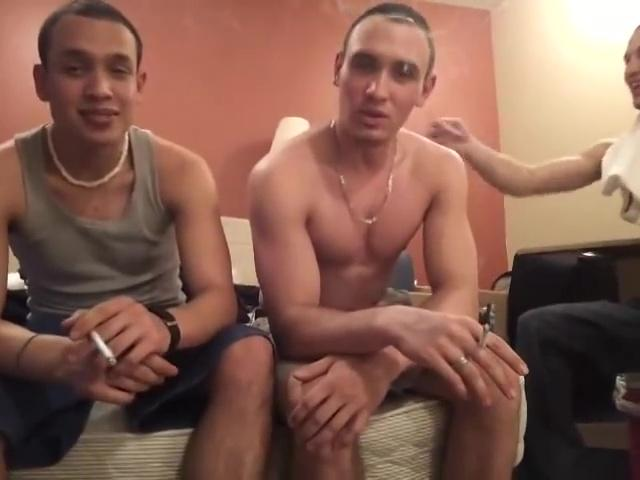cigarette: (88, 325, 115, 366), (480, 322, 492, 348)
